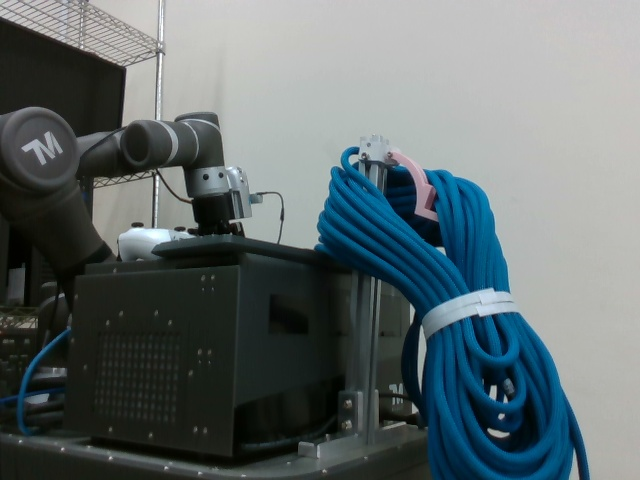rope: (324, 144, 587, 480)
